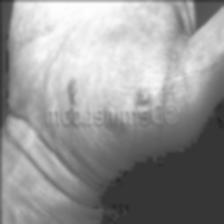Toxin: (67, 80, 78, 106), (138, 91, 150, 104)
